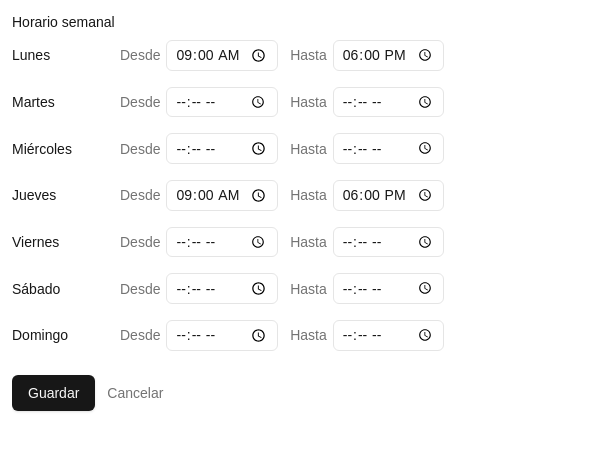
Test: WeeklyScheduleForm - rejection › should_return_the_submitted_week_not_the_stored_one
Replace the text in the time field labelled "Desde" in the row of "Lunes" with "07:30" at [222, 55], box [166,40,278,71]
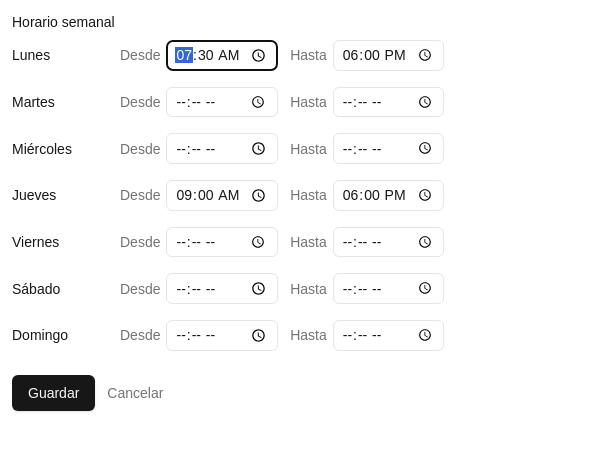
Click the button "Guardar" at [54, 393], box [12,375,95,411]
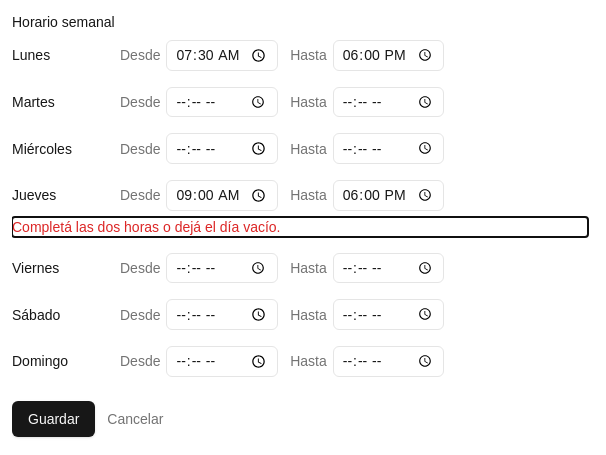
Expected: the message "Completá las dos horas o dejá el día vacío." is shown, [12,219,280,235]
